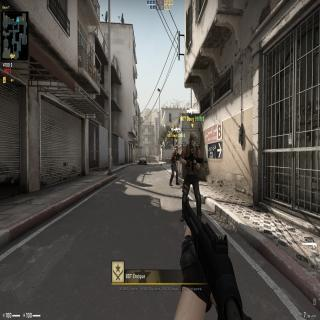T-Head: (189, 132, 198, 149), (176, 144, 178, 150)
